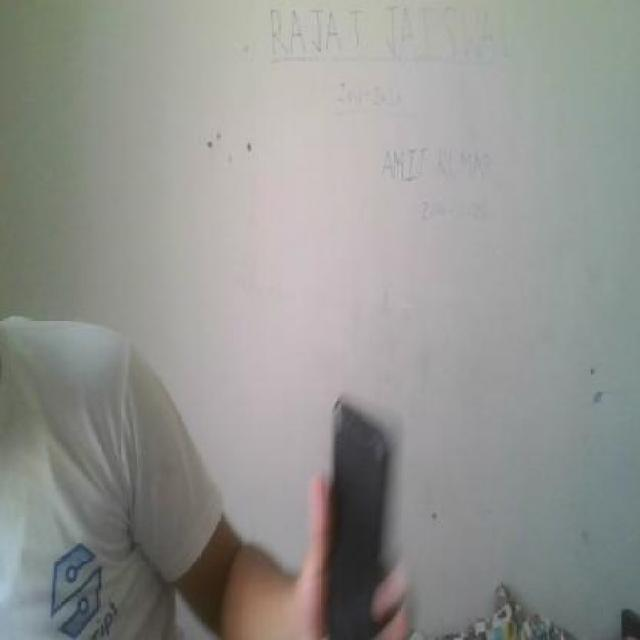Phone: (316, 396, 400, 634)
